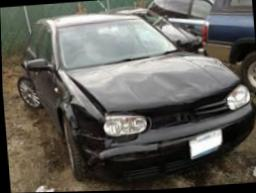Bonnet: (60, 50, 240, 115)
Bumper: (77, 94, 256, 183)
Fender: (55, 71, 102, 139)
